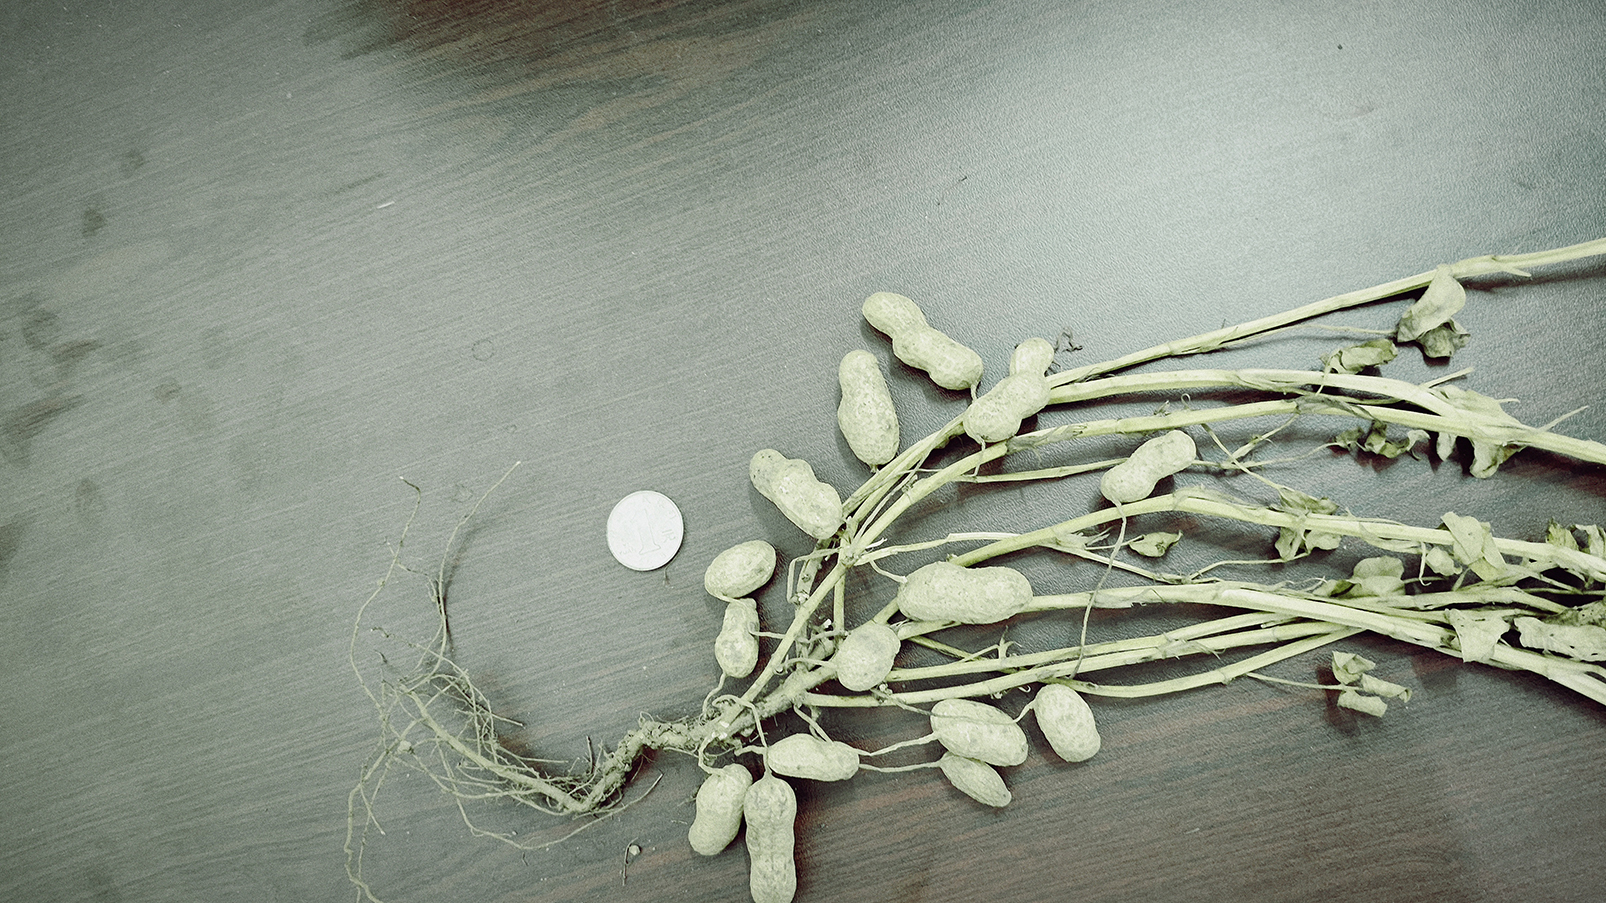h: (861, 290, 982, 389), (966, 333, 1052, 445), (895, 560, 1032, 624), (749, 448, 842, 539), (1099, 426, 1197, 506), (836, 350, 899, 467), (932, 698, 1030, 767), (743, 777, 794, 903), (685, 763, 751, 858), (1034, 682, 1101, 763), (764, 732, 860, 781), (703, 537, 777, 599), (938, 753, 1014, 811), (838, 620, 899, 689), (714, 595, 760, 676)
